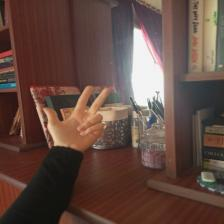three: (33, 80, 123, 158)
